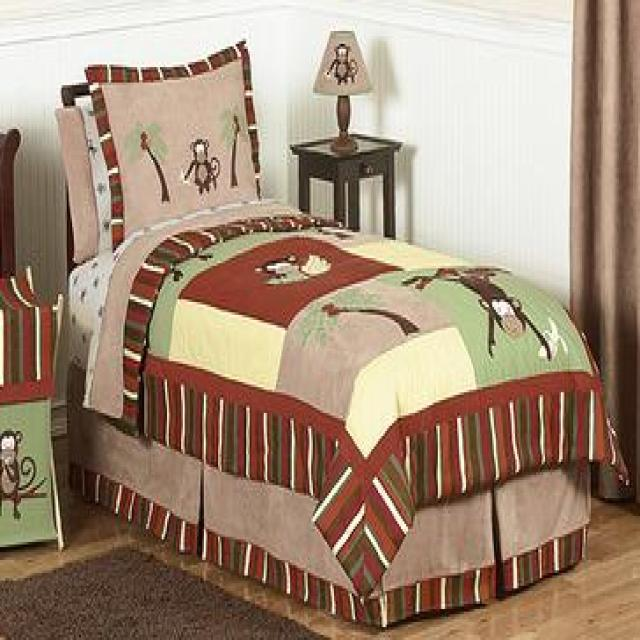bed: (52, 38, 620, 630)
table: (288, 129, 401, 237)
